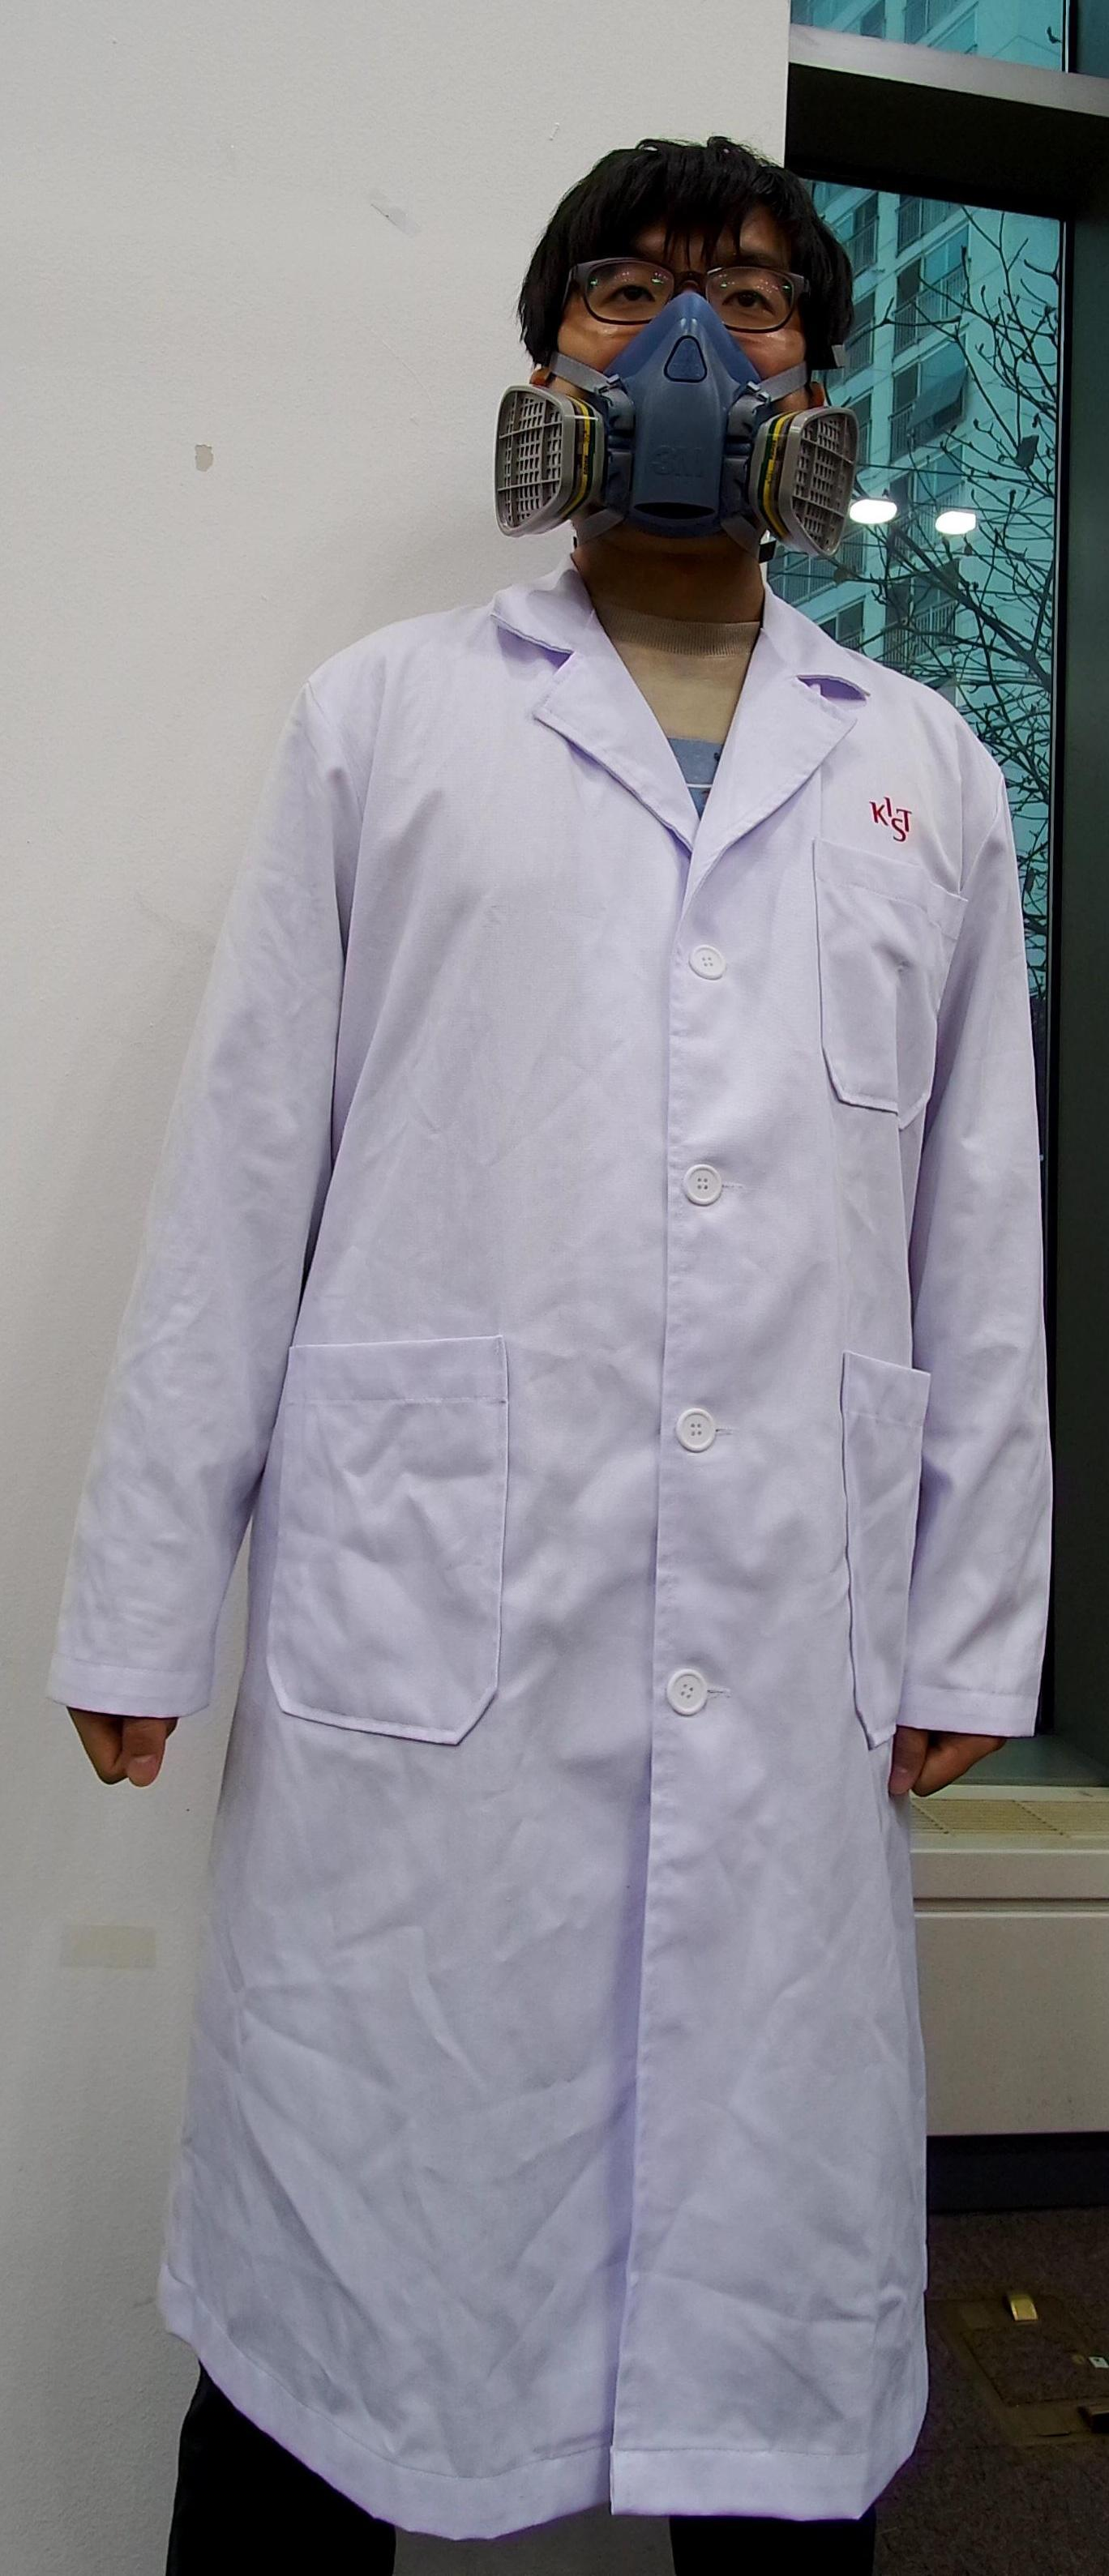lab_coat: (61, 572, 1063, 2543)
